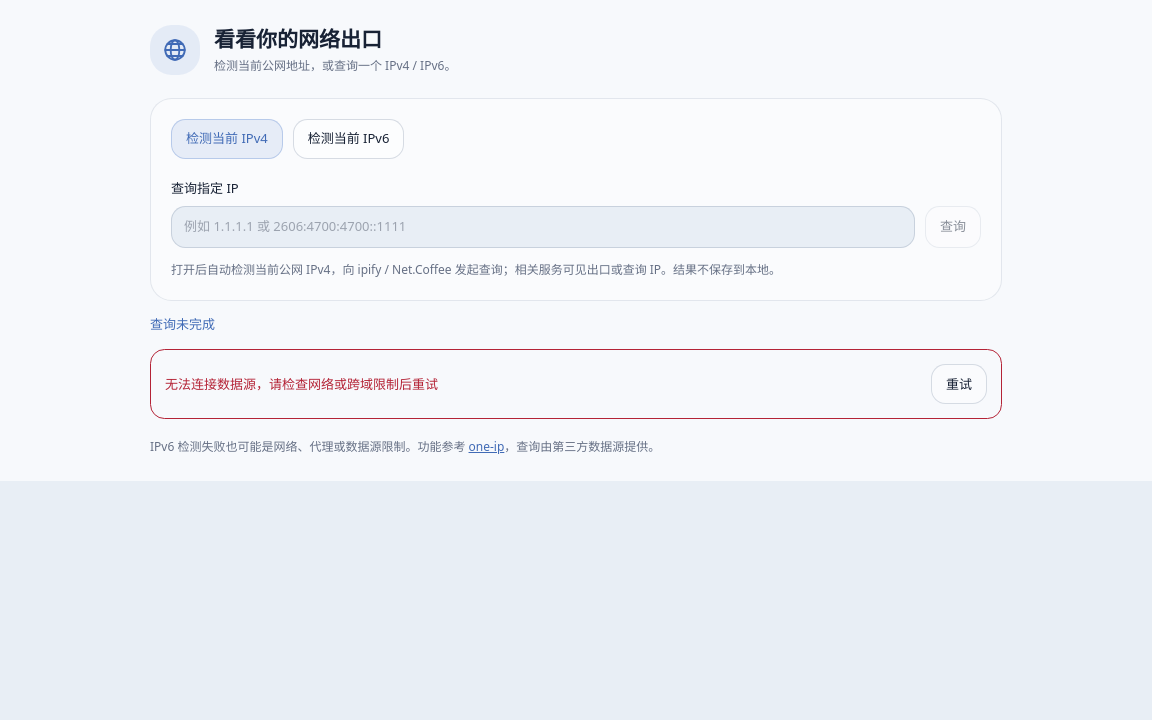
Test: IP detection panel › retries the current IPv4 when automatic detection fails
Expected: the message "无法连接数据源，请检查网络或跨域限制后重试 重试" is shown, [150,349,1002,419]
Click the button "重试": (959, 384) [931,364,987,404]
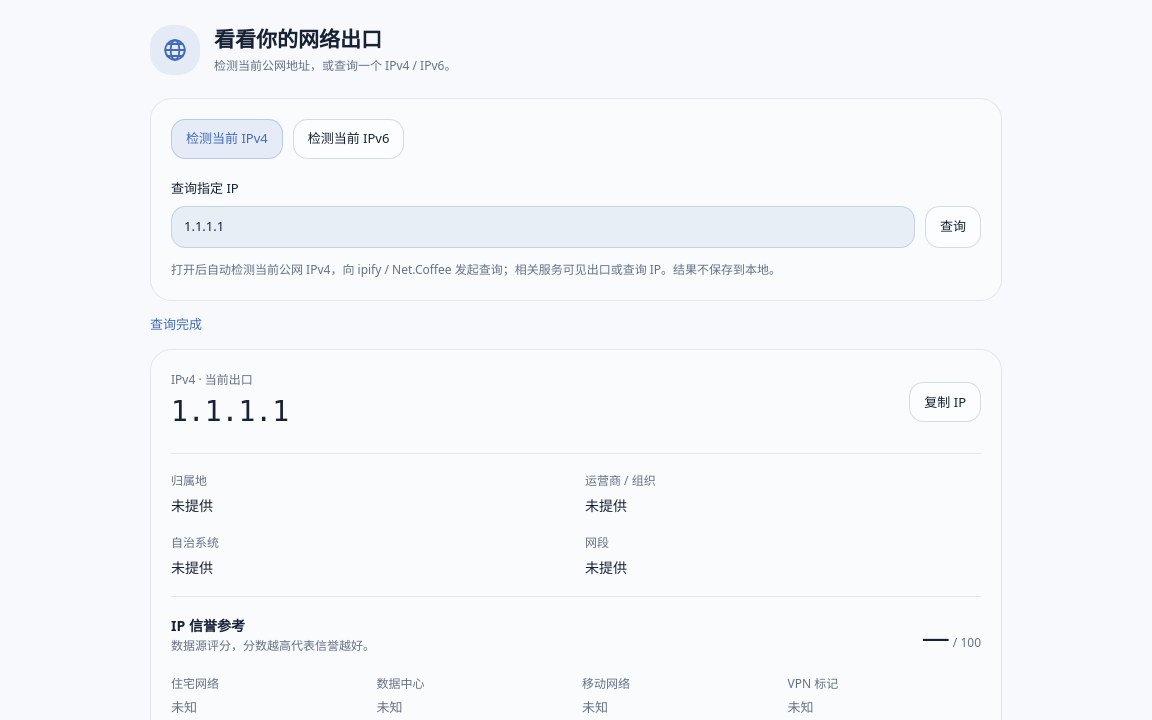
Expected: the message "查询完成" is shown, [150,315,202,333]
